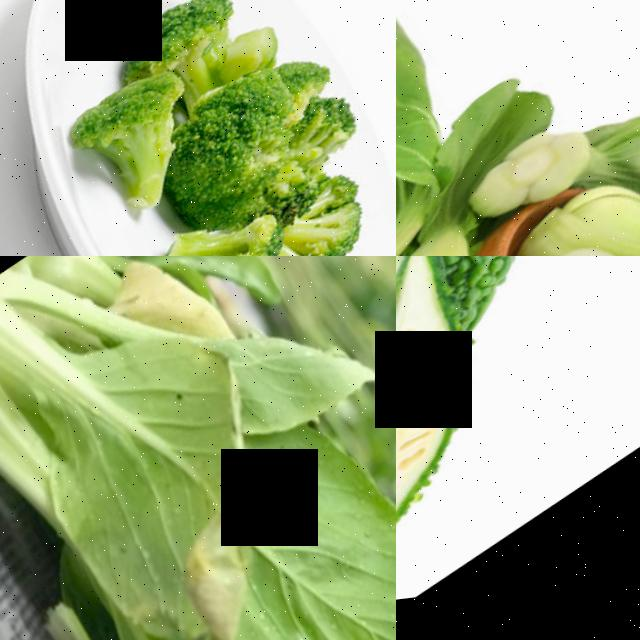bitter gourd: (396, 363, 519, 562), (396, 256, 588, 350)
bok choy: (0, 256, 396, 640), (479, 73, 640, 228), (396, 117, 536, 256)
broccoli: (48, 50, 214, 252), (160, 56, 322, 223), (130, 0, 258, 119), (255, 158, 396, 256), (141, 188, 296, 256)
